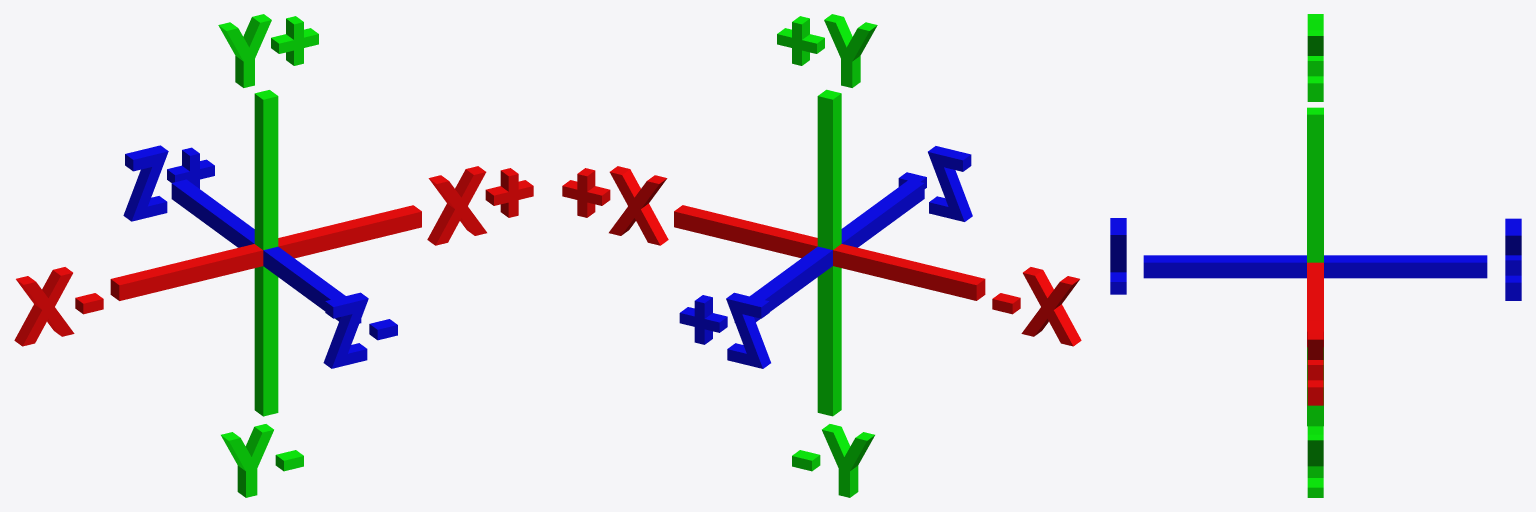
File: BigAxis.fbx
3 renders of one model, left to right at view 1: azimuth 30°, elevation 25°; view 2: azimuth 150°, elevation 25°; view 3: azimuth 270°, elevation 25°, orthographic.
Parts seen in each view (by area): view 1: Axes; view 2: Axes; view 3: Axes.
Part boxes in pixels (left/top/right/bottom): Axes: left=14, top=14, right=533, bottom=497; Axes: left=562, top=14, right=1081, bottom=497; Axes: left=1110, top=14, right=1521, bottom=497.
Bounding box in the file's own units: 0.3378 × 0.2978 × 0.2393.
